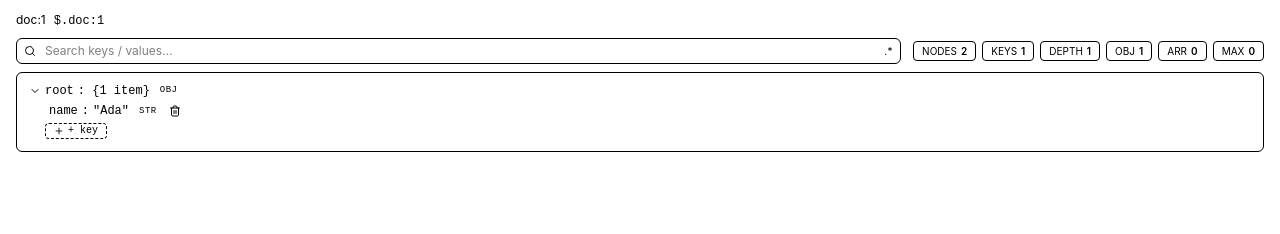
it: KvValueBody write (KV JSON tree) › discards pending edits without writing
Click the button with test id "tree-leaf-name" at (111, 111), box [93,103,129,119]
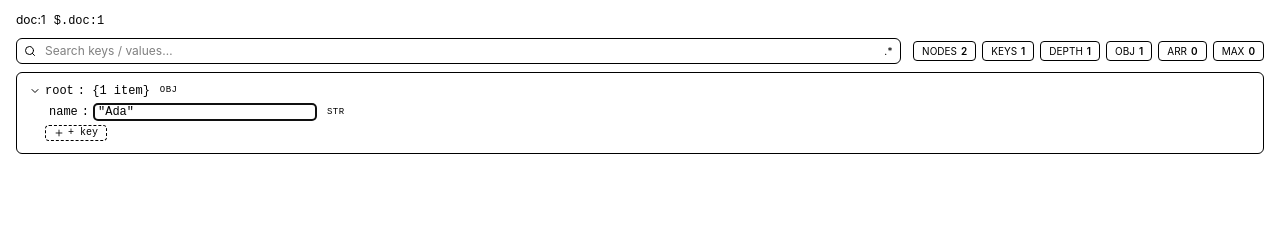
Replace the text in the field with test id "tree-edit-name" with "\"Bob\"" at (205, 112), box [93,103,317,121]
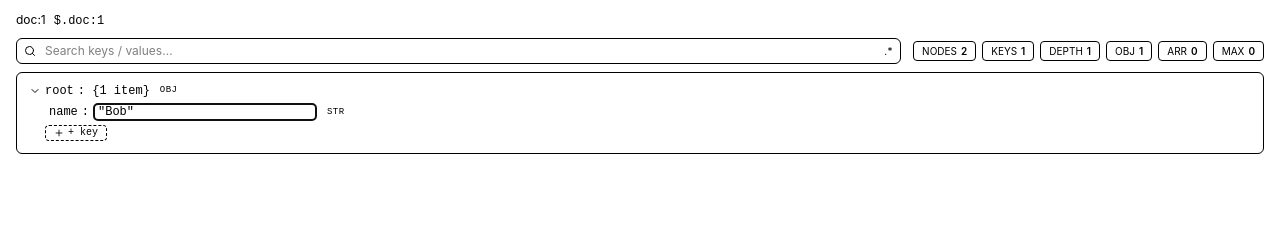
Press Enter
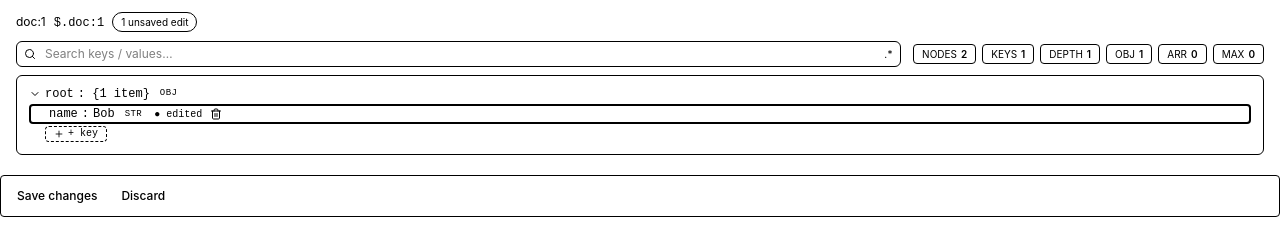
Click the button "Discard" at (143, 196), box [113,184,173,208]
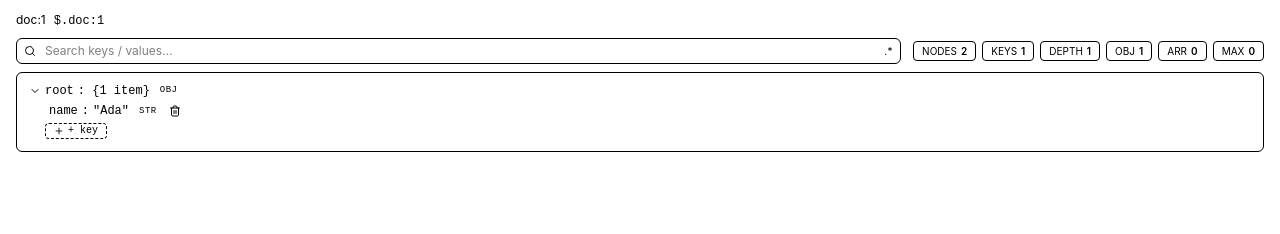
Now the button "Save changes" is gone
